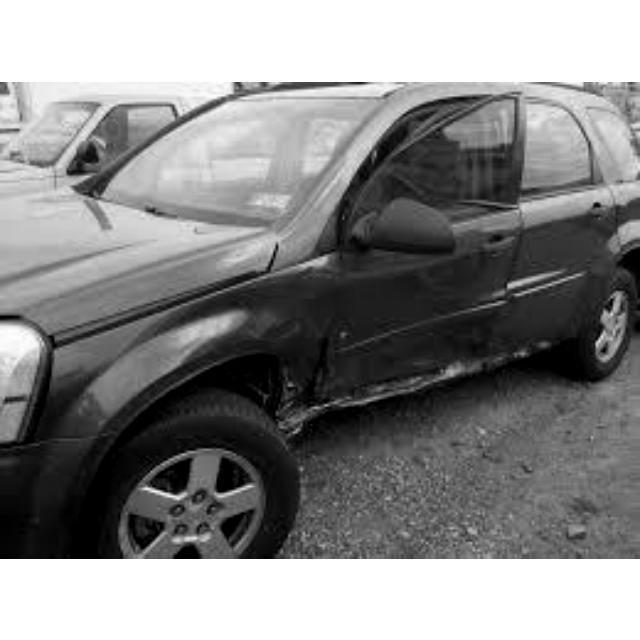Runningboard-Damage: (242, 374, 426, 442), (392, 347, 500, 413), (483, 320, 588, 374)
